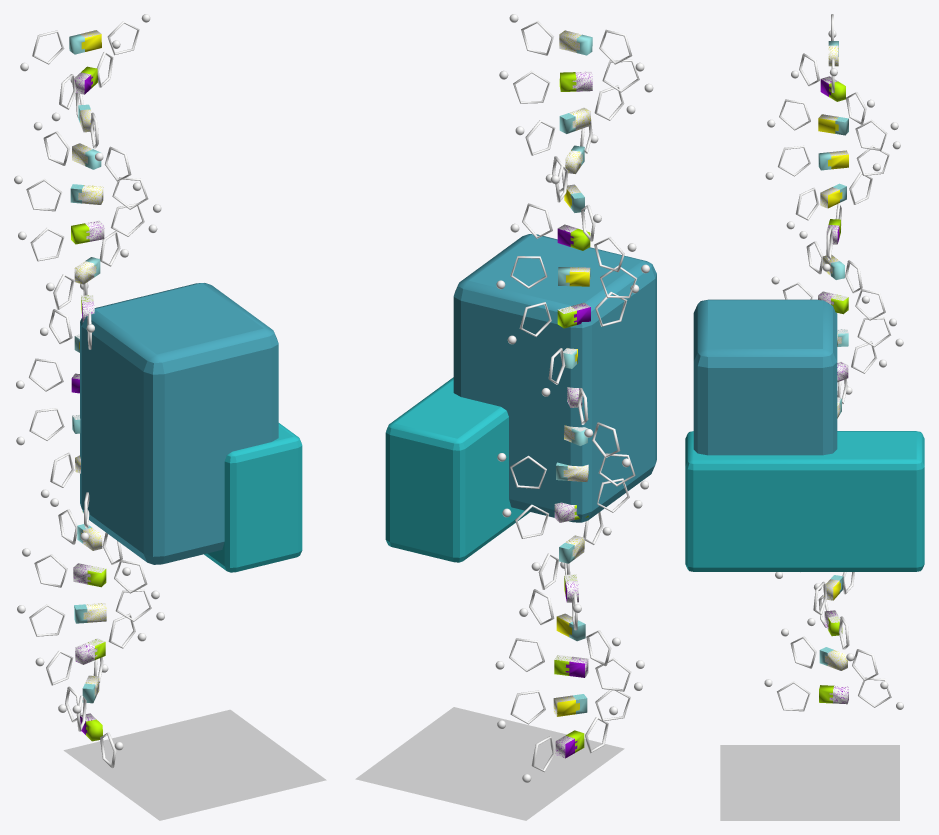
The model's file is newdna.dae.
3 renders of one model, left to right at view 1: azimuth 30°, elevation 25°; view 2: azimuth 150°, elevation 25°; view 3: azimuth 270°, elevation 25°, orthographic. The views are drawn at different scales.
Parts seen in each view (by area): view 1: leaves3, shadow, leaves2; view 2: leaves3, leaves2, shadow; view 3: leaves2, leaves3, shadow.
Boxes of the visible parts, box(x1,y1,x2,y2) form: leaves3: box(80, 283, 278, 564); shadow: box(63, 709, 326, 820); leaves2: box(204, 423, 302, 572); leaves3: box(453, 234, 656, 522); leaves2: box(385, 377, 529, 562); shadow: box(355, 707, 624, 820); leaves2: box(685, 431, 924, 571); leaves3: box(693, 299, 837, 455); shadow: box(720, 745, 899, 820).
Bounding box in the file's own units: 1.47 × 1.33 × 4.32.
